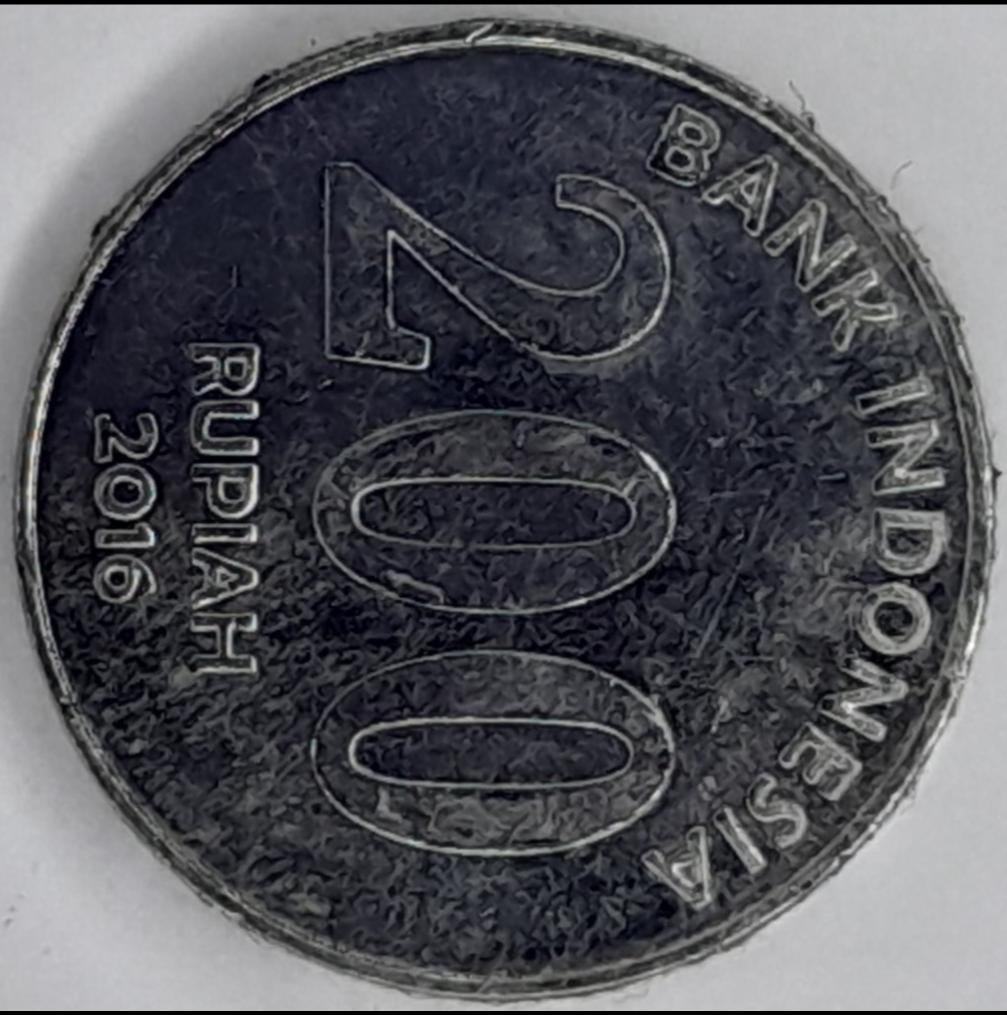coin_200_e2016: (0, 18, 1007, 1015)
